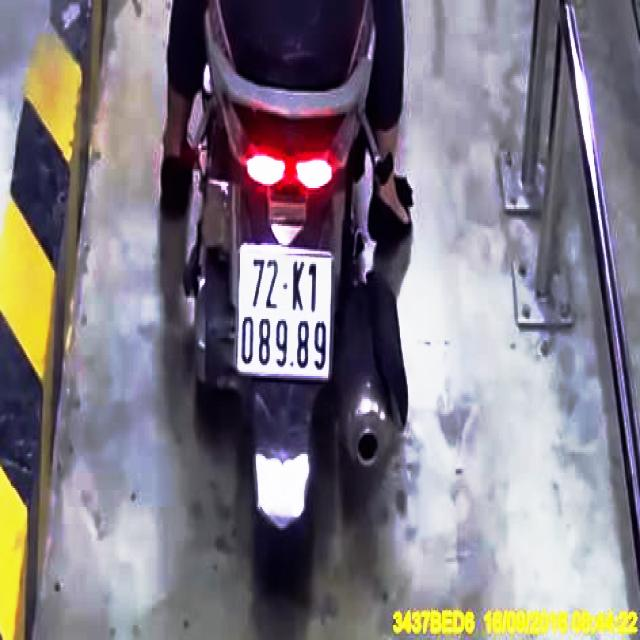license_plate: (238, 250, 334, 383)
